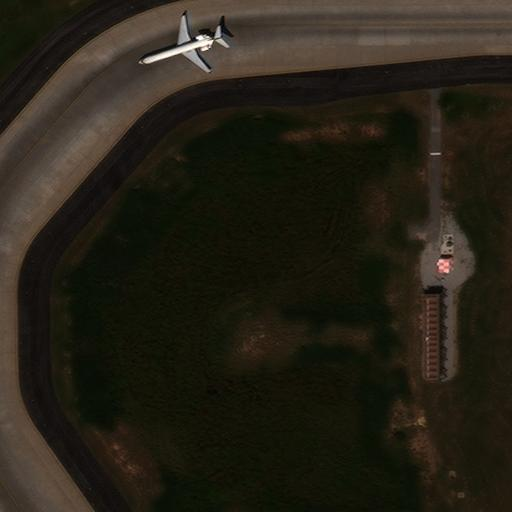Medium Civil Transport: (139, 15, 227, 73)
